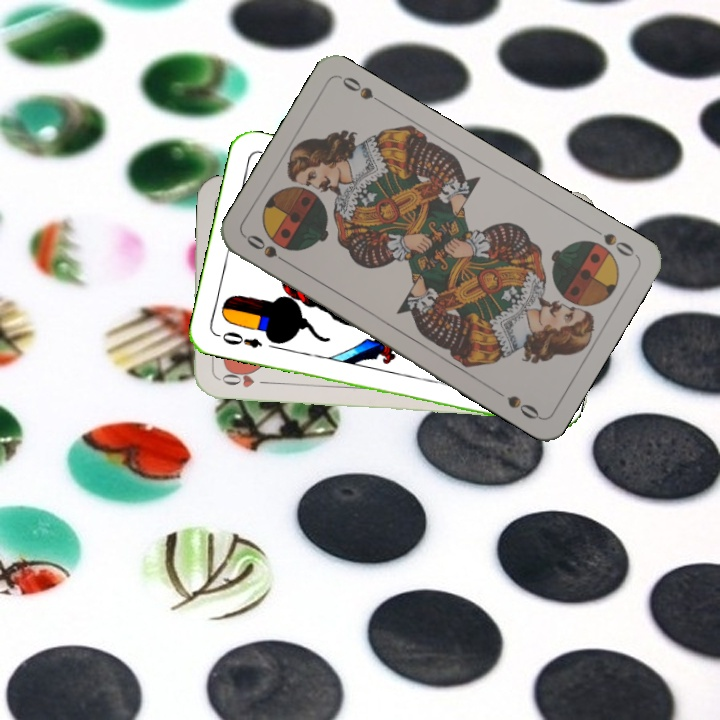EO: (213, 327, 265, 351)
HO: (214, 369, 273, 390)
SO: (241, 230, 295, 269), (586, 222, 639, 260)
